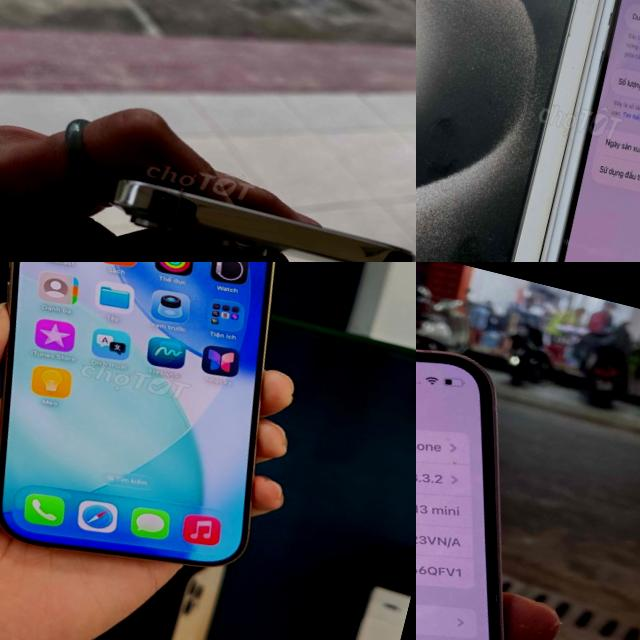gen_12_13: (416, 283, 625, 640)
gen_14: (87, 151, 416, 262)
gen_15: (518, 0, 640, 262)
gen_16: (0, 262, 274, 564)
